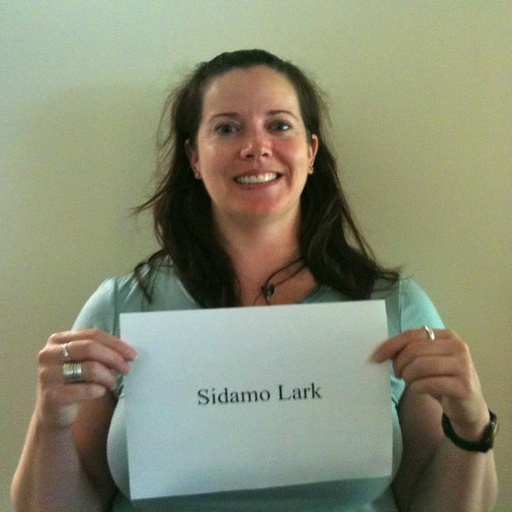hand: (384, 320, 497, 459), (34, 324, 139, 431)
